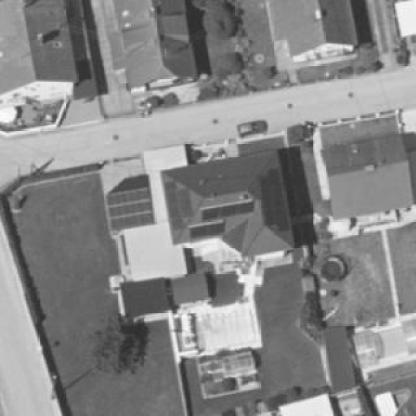solar-pv-panel: (105, 187, 154, 232), (258, 168, 290, 232), (162, 180, 193, 230), (202, 200, 254, 220), (190, 222, 225, 239)
